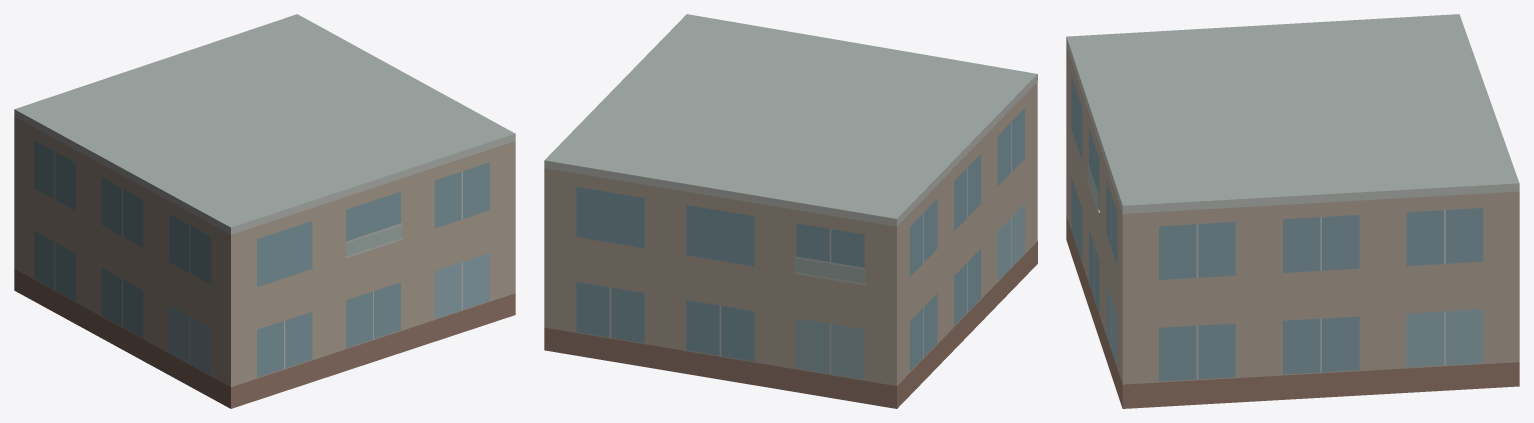
Rendered from survey-upis-32879990.glb.
3 views of the same model, side by side, from view 1: azimuth 30°, elevation 25°; view 2: azimuth 150°, elevation 25°; view 3: azimuth 270°, elevation 25° (orthographic). The views are drawn at different scales.
Visible parts, largest first — view 1: survey-upis-32879990.tmp; view 2: survey-upis-32879990.tmp; view 3: survey-upis-32879990.tmp.
Boxes of the visible parts, box(x1,y1,x2,y2) form: survey-upis-32879990.tmp: box(14, 14, 515, 408); survey-upis-32879990.tmp: box(544, 14, 1037, 408); survey-upis-32879990.tmp: box(1066, 14, 1519, 408).
Size of the model in its own units: 12.37 by 6.1 by 12.35.
